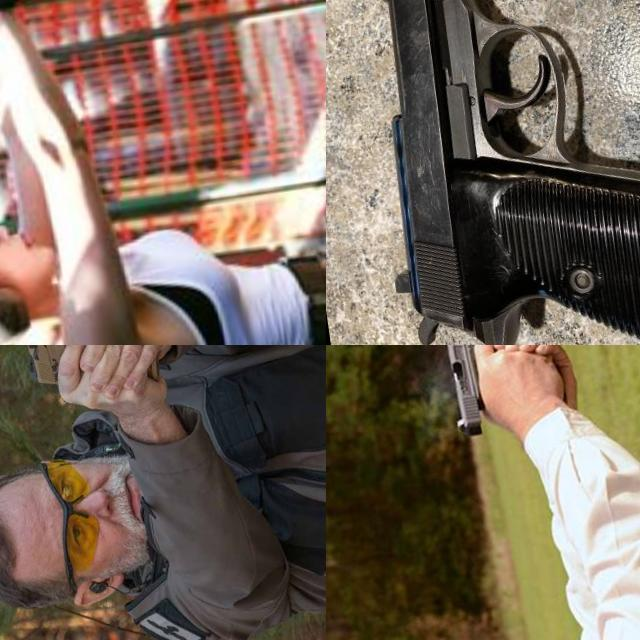handgun: (326, 0, 640, 345), (425, 345, 510, 445), (2, 345, 99, 410), (0, 0, 41, 72)
